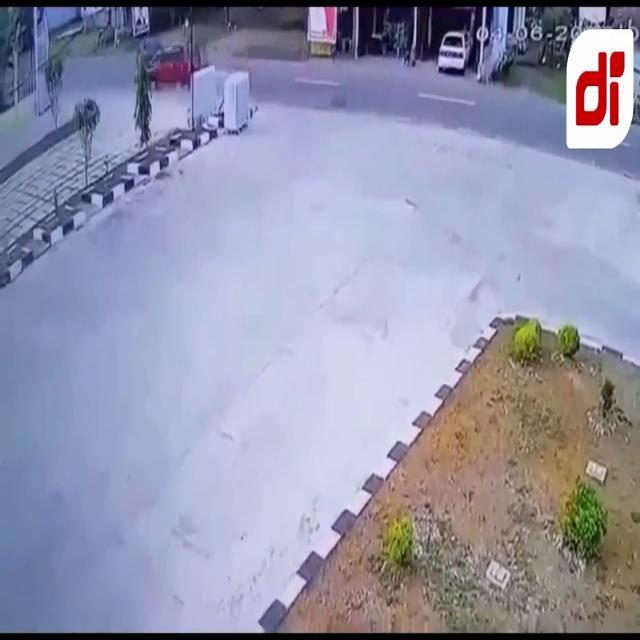normal: (437, 29, 473, 73)
